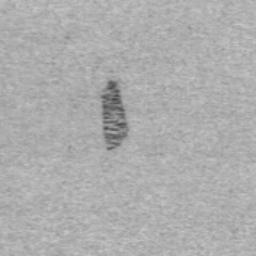Secondary rust skin: (100, 80, 129, 151)
